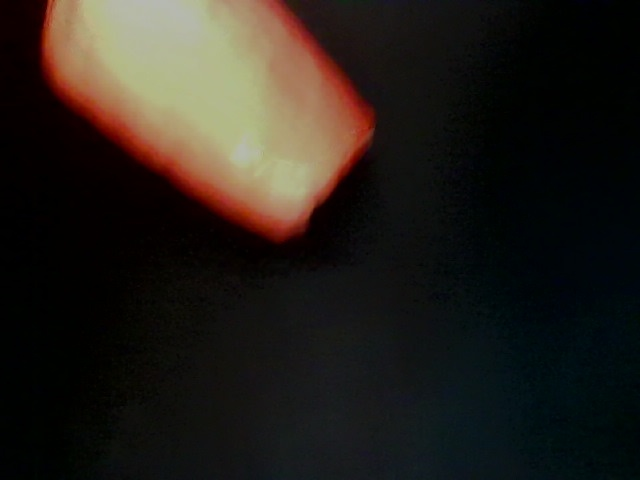YHLJ: (137, 231, 399, 316)
